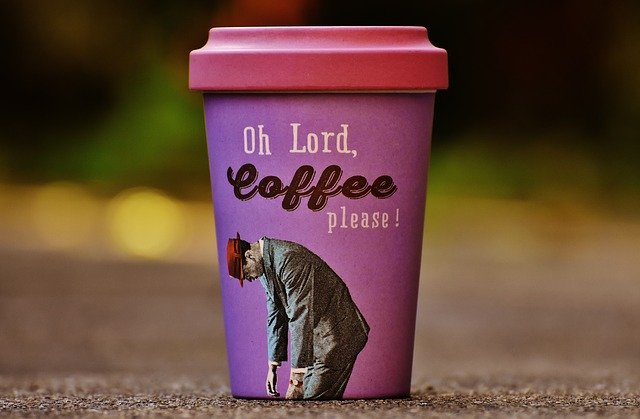cup: (180, 21, 456, 407)
